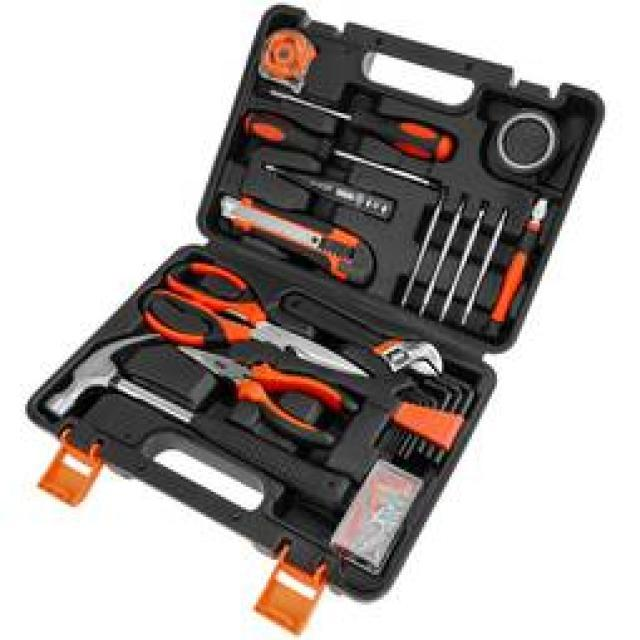hammer: (31, 326, 353, 520)
screwdriver: (234, 105, 450, 208), (262, 80, 468, 161)
